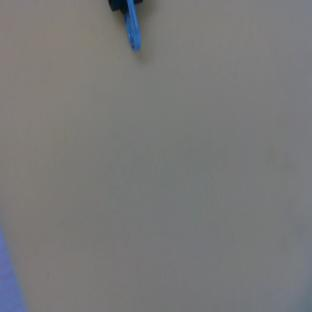part_1_good: (108, 0, 142, 51)
